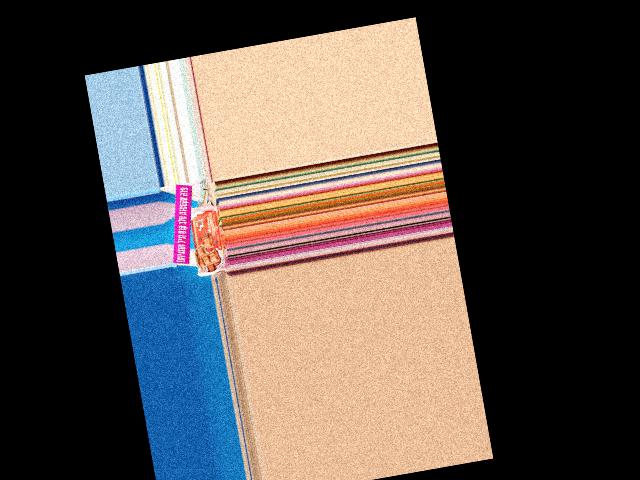chocolate: (185, 202, 228, 279)
